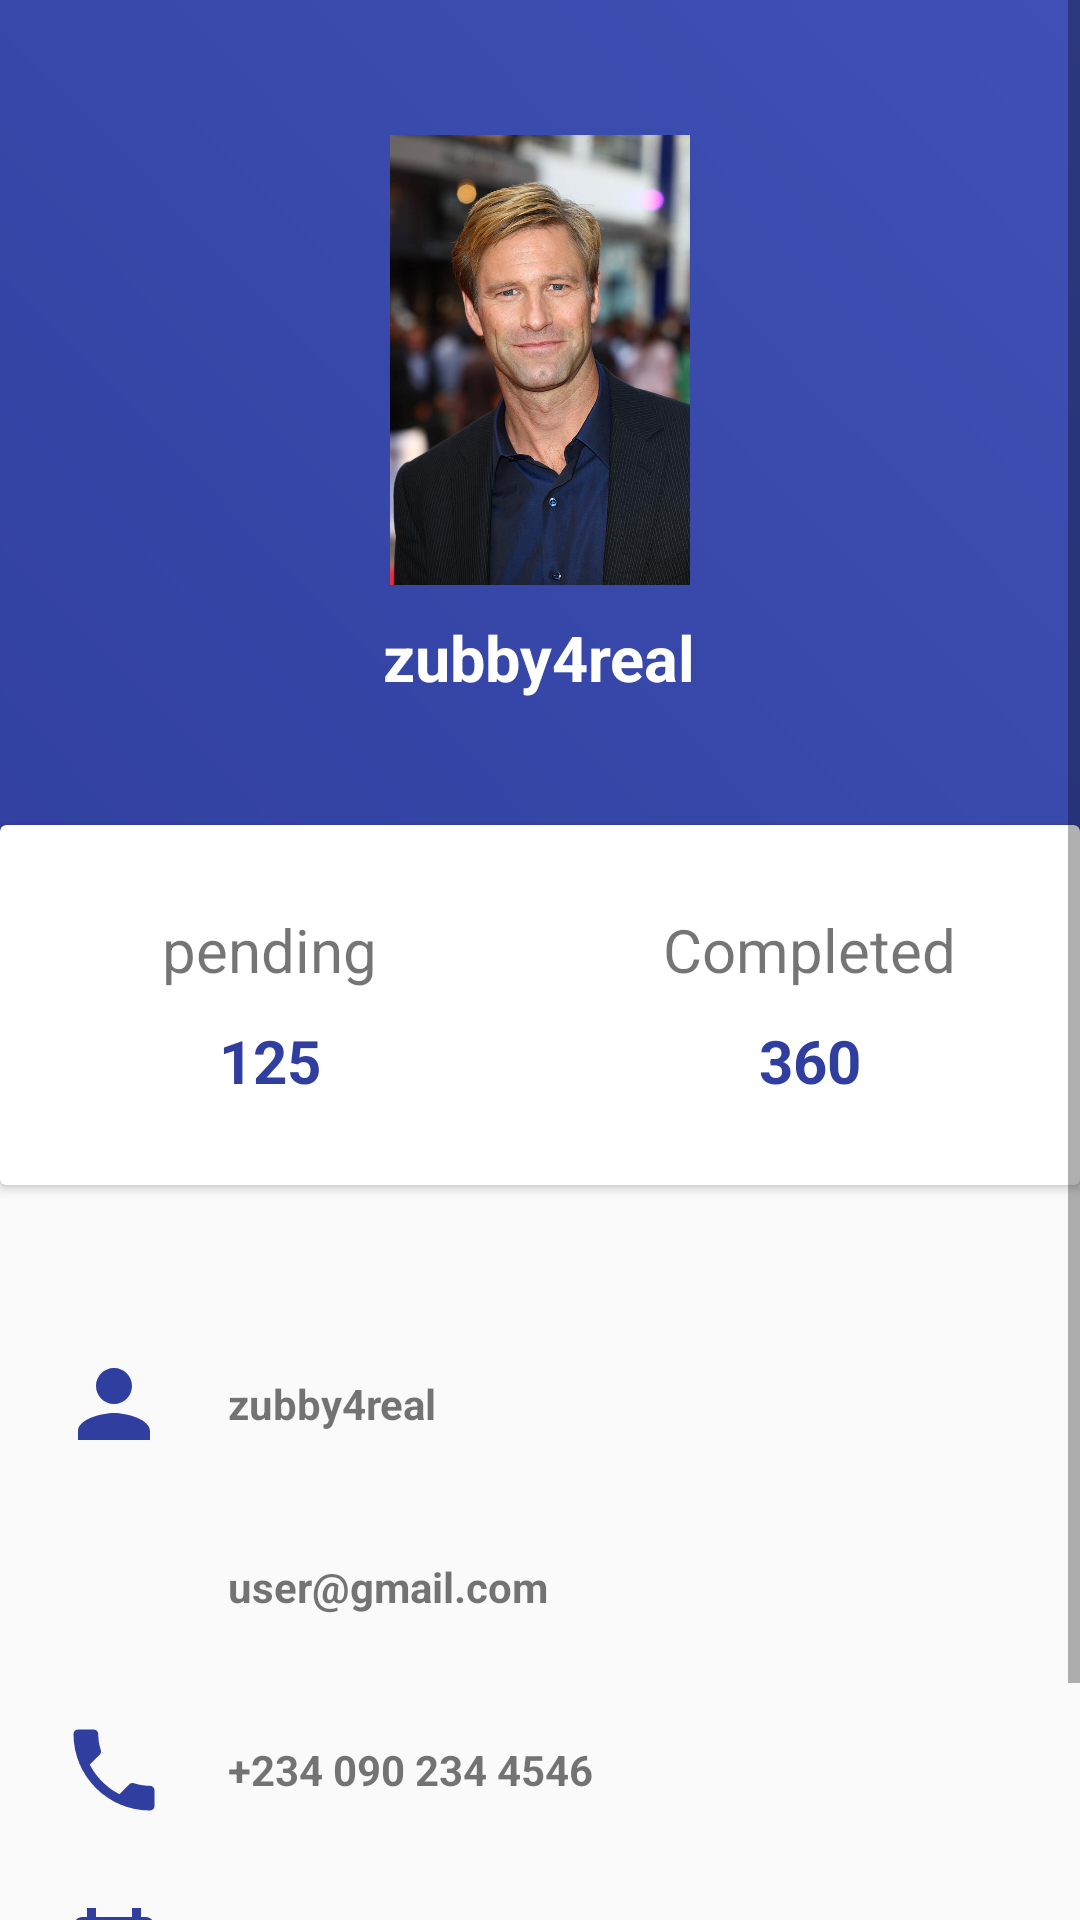

Screen size 1080px x 1920px. Icon name, then its center in pixels as (x=x, y=y):
local phone: (x=114, y=1770)
person: (x=114, y=1404)
